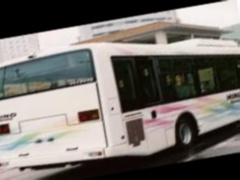bus: (0, 18, 240, 180)
